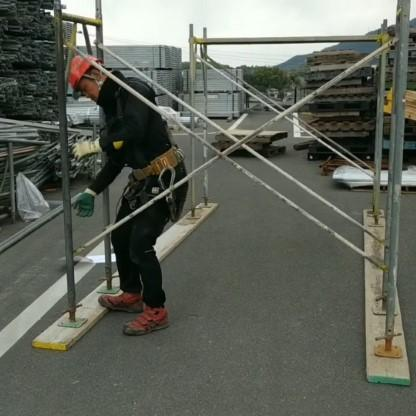helmet: (68, 51, 137, 115)
